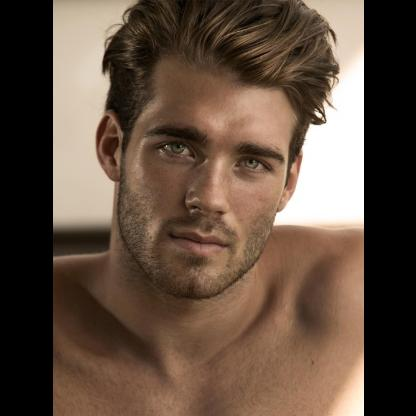Male: (98, 49, 300, 294)
